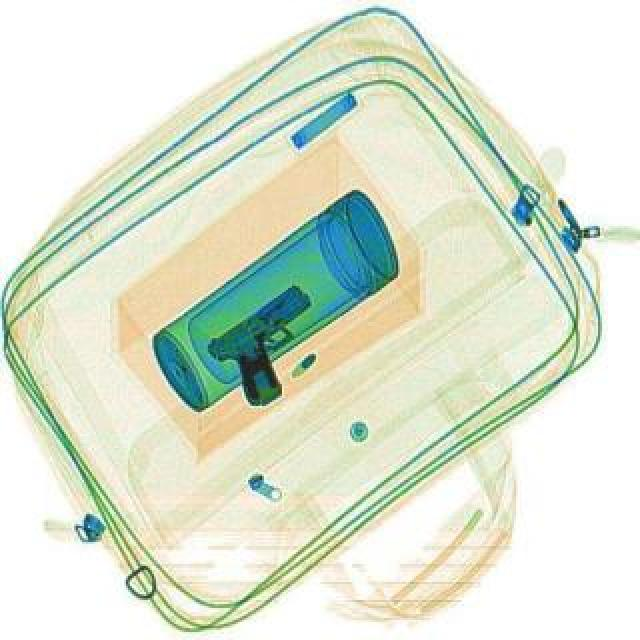gun: (198, 278, 350, 410)
